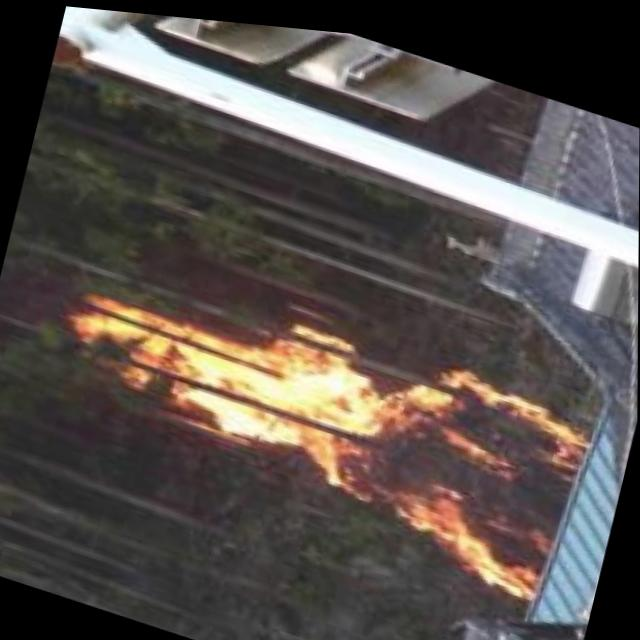Fire: (37, 235, 593, 587)
